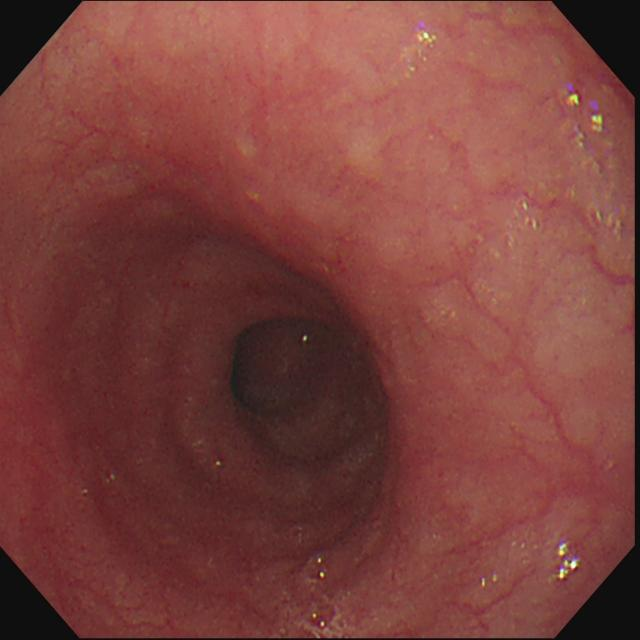E: (219, 311, 371, 469)
T: (300, 554, 342, 638)
U: (554, 540, 580, 582), (417, 24, 441, 50), (561, 86, 580, 110), (592, 113, 604, 133)
